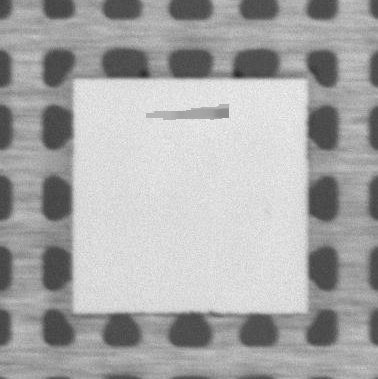DIE_INK: (142, 101, 234, 126)
